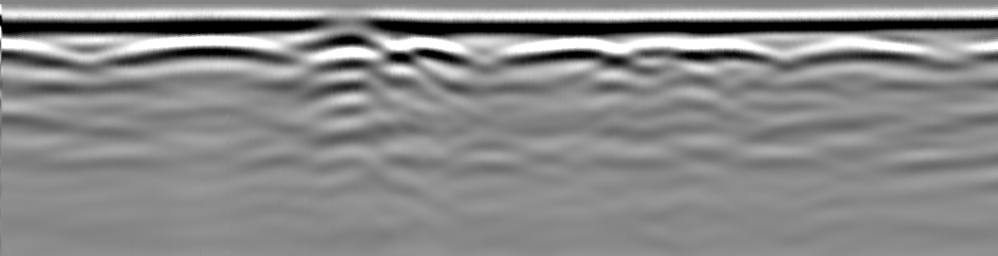pipe: (309, 17, 389, 51)
steel: (93, 37, 307, 68), (781, 35, 951, 66), (628, 37, 780, 68), (494, 37, 633, 67), (385, 37, 478, 68), (1, 39, 88, 71)
